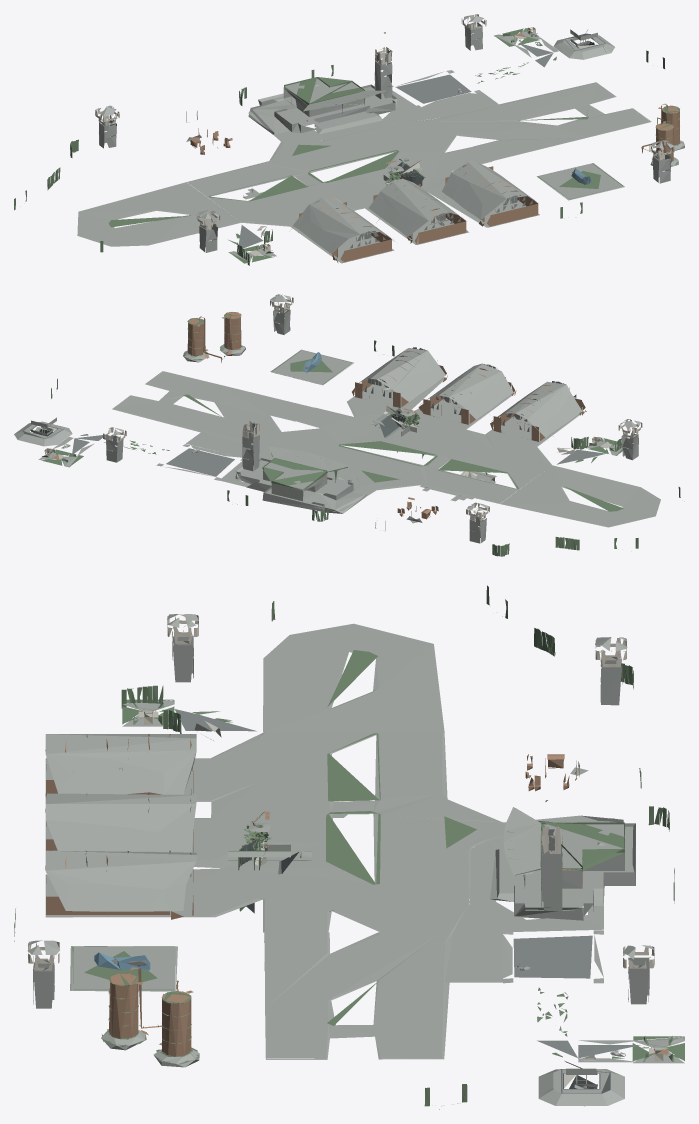
Rendered from airfield_1.glb.
3 views of the same model, one above another, from view 1: azimuth 30°, elevation 25°; view 2: azimuth 150°, elevation 25°; view 3: azimuth 270°, elevation 25° (orthographic). The views are drawn at different scales.
Visible parts, largest first — view 1: wall_300x900_LOD0, perimeter_wall_end_LOD0, staircase_600x600_LOD0, sewer_drainwall_600_LOD0, watch_tower_b_LOD0; view 2: wall_300x900_LOD0, perimeter_wall_end_LOD0, staircase_600x600_LOD0, sewer_drainwall_600_LOD0, watch_tower_b_LOD0, shipping_container_900_a_LOD0; view 3: wall_300x900_LOD0, perimeter_wall_end_LOD0, staircase_600x600_LOD0, sewer_drainwall_600_LOD0, watch_tower_b_LOD0.
Boxes of the visible parts, x1,y1,x2,y2 form: wall_300x900_LOD0: (77,15,684,263); perimeter_wall_end_LOD0: (14,28,684,265); staircase_600x600_LOD0: (96,23,679,262); sewer_drainwall_600_LOD0: (102,24,669,248); watch_tower_b_LOD0: (95,14,674,251); wall_300x900_LOD0: (14,294,660,543); perimeter_wall_end_LOD0: (23,312,684,556); staircase_600x600_LOD0: (45,301,628,521); sewer_drainwall_600_LOD0: (72,304,639,517); watch_tower_b_LOD0: (44,294,642,521); shipping_container_900_a_LOD0: (39,387,612,498); wall_300x900_LOD0: (27,614,684,1106); perimeter_wall_end_LOD0: (14,585,684,1109); staircase_600x600_LOD0: (45,622,668,1056); sewer_drainwall_600_LOD0: (43,641,642,1058); watch_tower_b_LOD0: (28,614,663,1061).
Bounding box in the file's own units: 342 × 52.83 × 193.
